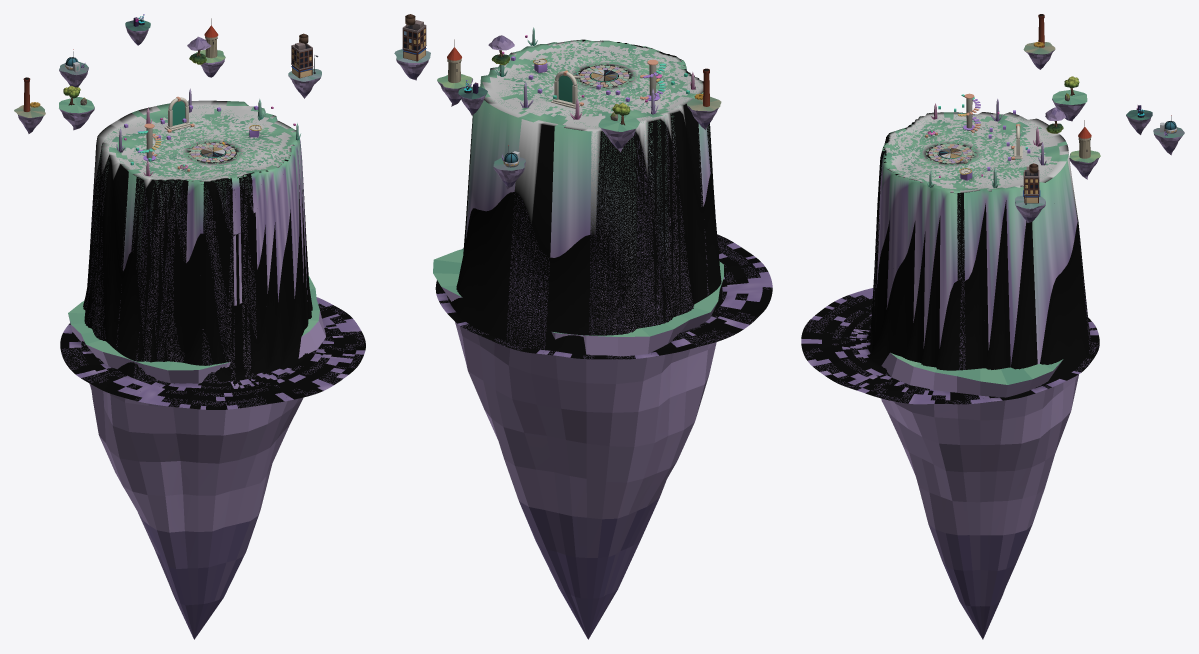
The model's file is era6.lo.glb.
3 renders of one model, left to right at view 1: azimuth 30°, elevation 25°; view 2: azimuth 150°, elevation 25°; view 3: azimuth 270°, elevation 25°, orthographic. The views are drawn at different scales.
Visible parts, largest first — view 1: grassmap, underside.001, terrain, isle_city_body, isle_stone_body, isle_factory_body, isle_castle_body, portal.001, isle_space_body, tiles.001; view 2: grassmap, underside.001, terrain, isle_city_body, isle_stone_body, isle_castle_body, isle_factory_body, isle_space_body, portal.001, isle_neon_body, tiles.001, spiral_stairs; view 3: grassmap, underside.001, terrain, isle_city_body, isle_stone_body, isle_castle_body, isle_factory_body, isle_space_body.
Part boxes in pixels (box(x1,y1,x2,y2)): grassmap: box(60, 100, 365, 409); underside.001: box(68, 276, 325, 639); terrain: box(61, 101, 365, 409); isle_city_body: box(288, 33, 321, 98); isle_stone_body: box(59, 86, 94, 130); isle_factory_body: box(14, 77, 45, 133); isle_castle_body: box(195, 18, 225, 77); portal.001: box(164, 96, 190, 130); isle_space_body: box(59, 49, 88, 87); tiles.001: box(190, 143, 235, 162); grassmap: box(435, 39, 772, 359); underside.001: box(433, 249, 723, 639); terrain: box(436, 39, 772, 358); isle_city_body: box(394, 14, 430, 80); isle_stone_body: box(598, 102, 639, 152); isle_castle_body: box(437, 39, 472, 106); isle_factory_body: box(687, 68, 721, 129); isle_space_body: box(493, 145, 525, 189); portal.001: box(551, 70, 580, 108); isle_neon_body: box(458, 80, 487, 115); tiles.001: box(580, 65, 629, 86); spiral_stairs: box(640, 59, 665, 100); grassmap: box(801, 112, 1099, 404); underside.001: box(881, 352, 1078, 639); terrain: box(801, 112, 1098, 404); isle_city_body: box(1015, 163, 1045, 222); isle_stone_body: box(1052, 76, 1087, 121); isle_castle_body: box(1069, 120, 1100, 179); isle_factory_body: box(1023, 14, 1055, 69); isle_space_body: box(1153, 115, 1184, 155).
Bounding box in the file's own units: 67.65 × 124 × 77.09.
